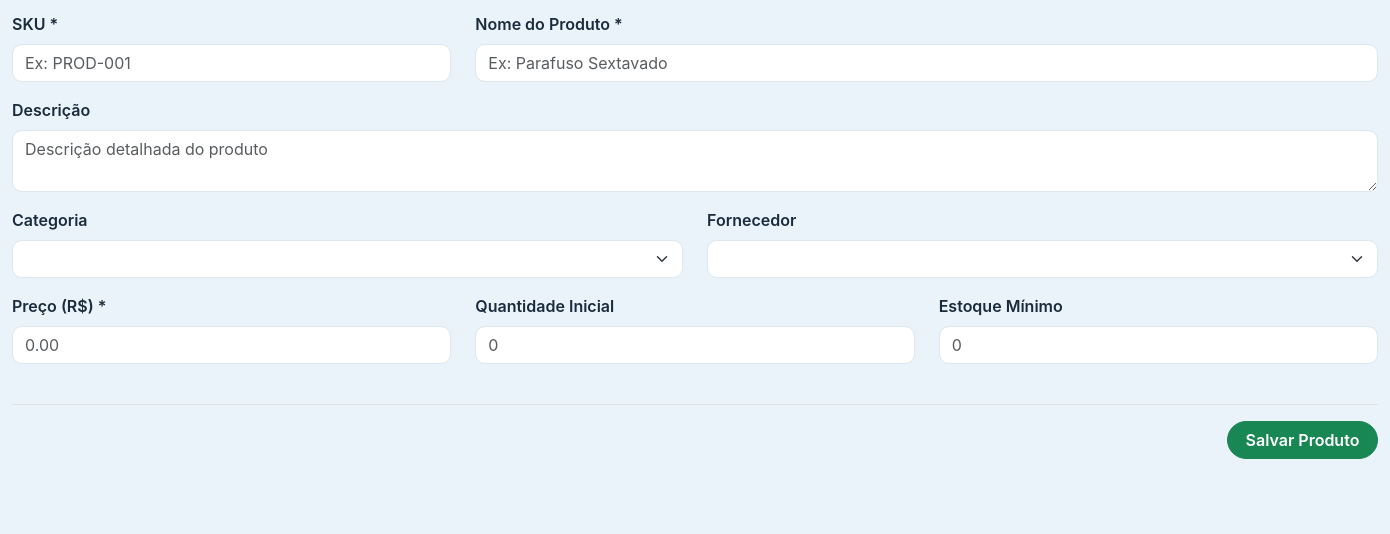
Test: Organism FormCreateProduct › deve exibir mensagem de erro se o preço for negativo
This screenshot has width=1390, height=534.
In the field labelled "SKU *": coordinates (232, 63) [12,44,451,82], type "SKU-001"
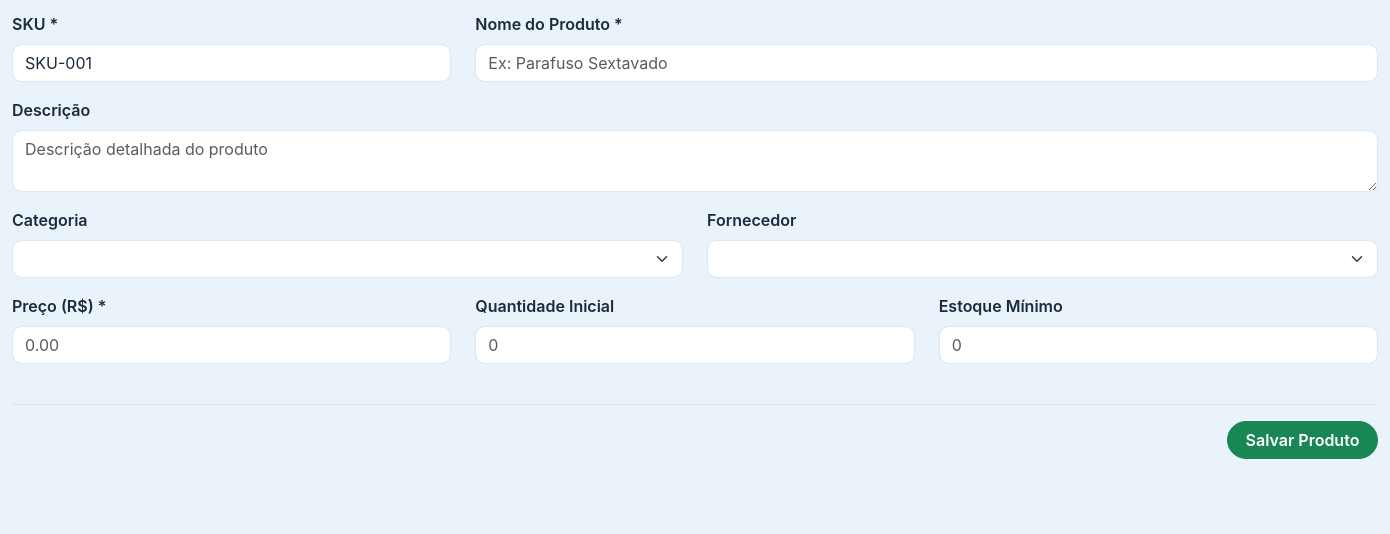
In the field labelled "Nome do Produto *": coordinates (927, 63) [475,44,1378,82], type "Produto Teste"
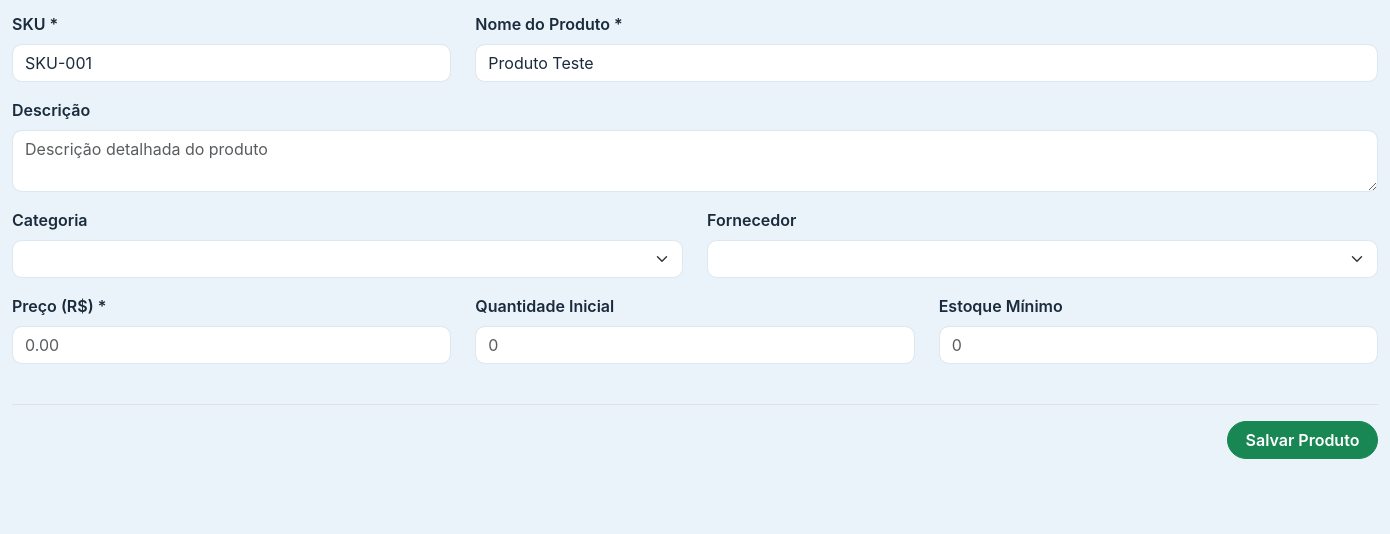
In the number field labelled "Preço (R$) *": coordinates (232, 345) [12,326,451,364], type "-5"
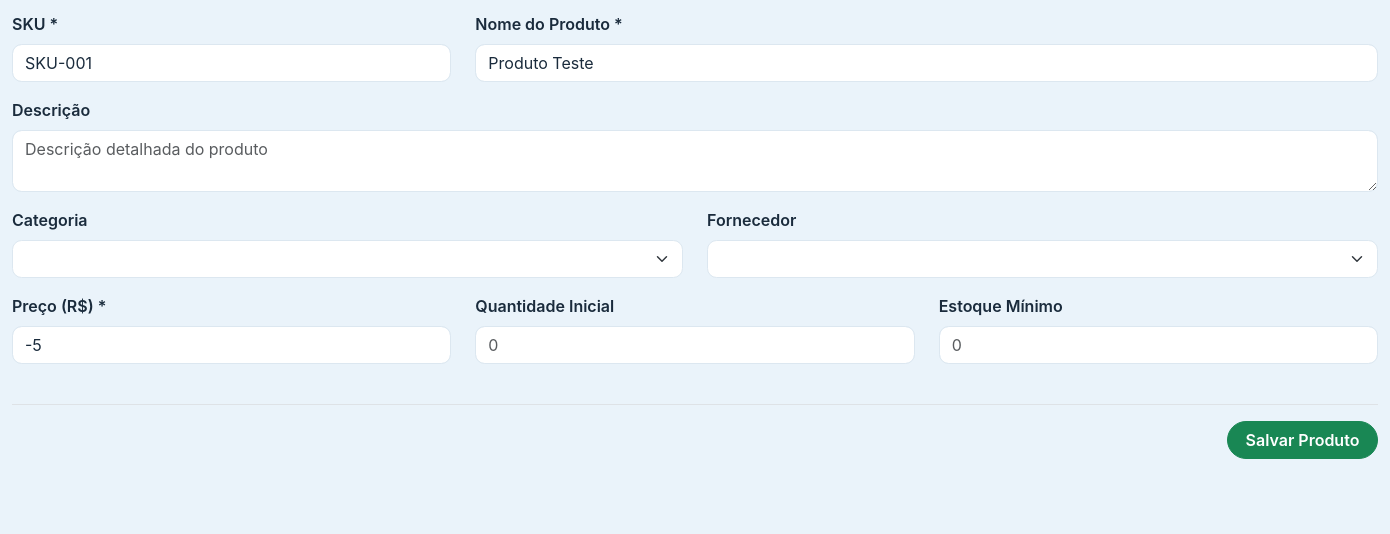
Click the button "Salvar Produto": coordinates (1302, 440) [1227,421,1378,459]
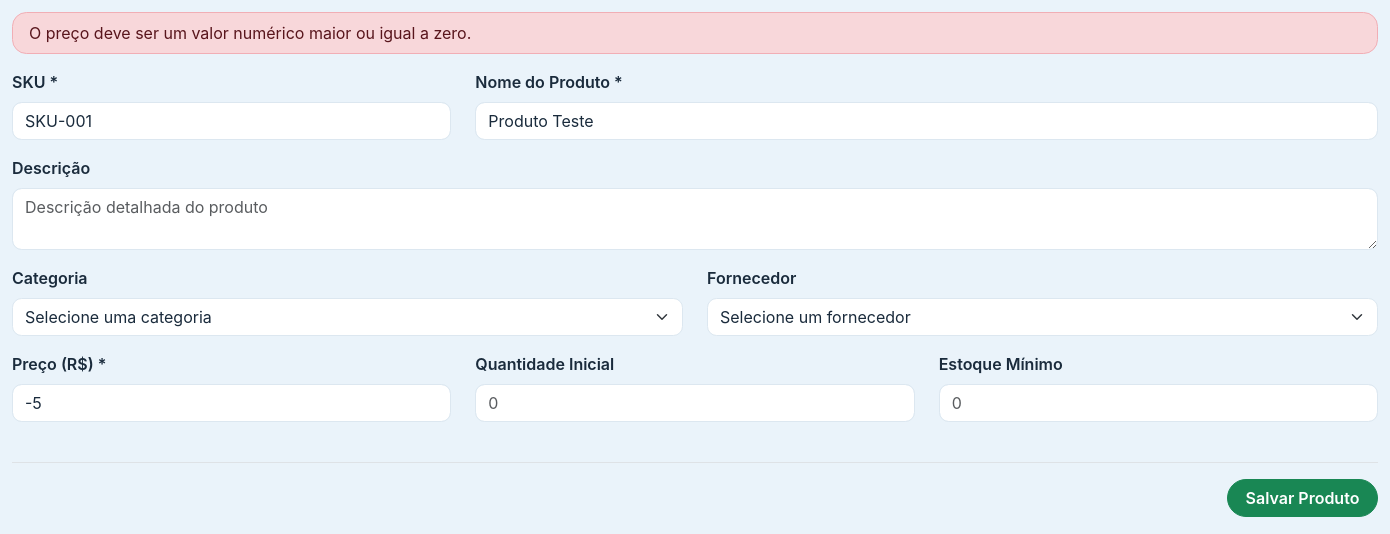
Check: the text "O preço deve ser um valor numérico maior ou igual a zero." is shown, box [12,12,1378,54]
